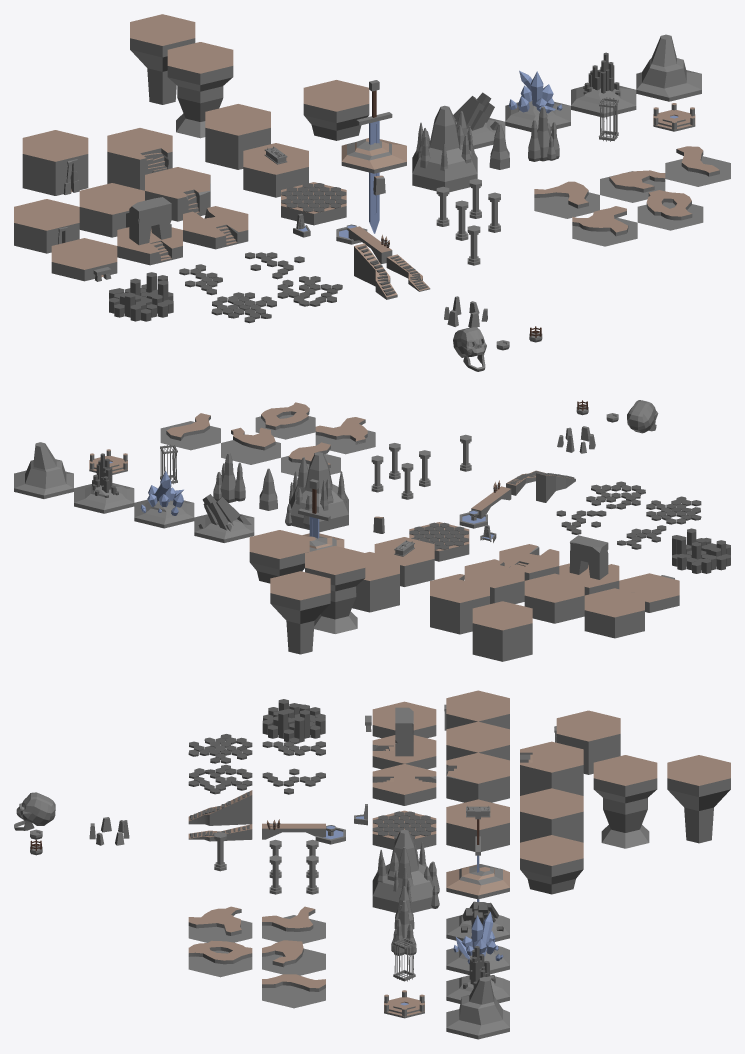
Rendered from HexCaves.fbx.
3 renders of one model, top to bottom at view 1: azimuth 30°, elevation 25°; view 2: azimuth 150°, elevation 25°; view 3: azimuth 270°, elevation 25°, orthographic. The views are drawn at different scales.
Parts seen in each view (by area): view 1: Base5, polySurface16, Base31, Base6, Base4, Base7, Stairs6, Base32, Base3, Cliff4, Base30, Stairs4 (+34 smaller); view 2: Base5, Base6, Base31, polySurface16, Stairs6, Base32, Base30, Base7, Base4, Cliff4, Pillars, Stairs4 (+33 smaller); view 3: Base5, Base6, polySurface16, Base7, Base4, Stairs6, Stairs4, Base31, Base3, Cliff4, Stairs2, Pillars (+32 smaller).
Boxes of the visible parts, x1,y1,x2,y2 form: Base5: (167, 42, 233, 138); polySurface16: (412, 105, 477, 192); Base31: (22, 130, 88, 195); Base6: (130, 14, 195, 104); Base4: (205, 104, 270, 169); Base7: (303, 80, 369, 140); Stairs6: (107, 128, 172, 190); Base32: (14, 199, 79, 253); Base3: (243, 143, 308, 197); Cliff4: (636, 34, 701, 101); Base30: (79, 183, 144, 237); Stairs4: (145, 167, 210, 221); Base5: (305, 546, 365, 633); Base6: (270, 571, 330, 654); Base31: (472, 601, 532, 661); polySurface16: (285, 452, 348, 532); Stairs6: (430, 574, 489, 634); Base32: (584, 588, 644, 638); Base30: (524, 573, 584, 623); Base7: (249, 530, 309, 583); Base4: (352, 552, 399, 612); Cliff4: (14, 442, 73, 498); Pillars: (672, 528, 730, 573); Stairs4: (464, 559, 524, 603); Base5: (593, 755, 657, 848); Base6: (667, 755, 730, 843); polySurface16: (372, 829, 439, 912); Base7: (520, 835, 583, 894); Base4: (520, 788, 583, 842); Stairs6: (520, 741, 583, 795); Stairs4: (446, 752, 509, 802); Base31: (556, 710, 620, 774); Base3: (446, 799, 509, 851); Cliff4: (446, 977, 509, 1039); Stairs2: (372, 764, 436, 805); Pillars: (262, 699, 325, 742).
Size of the model in its own units: 21 by 4.43 by 19.47.
